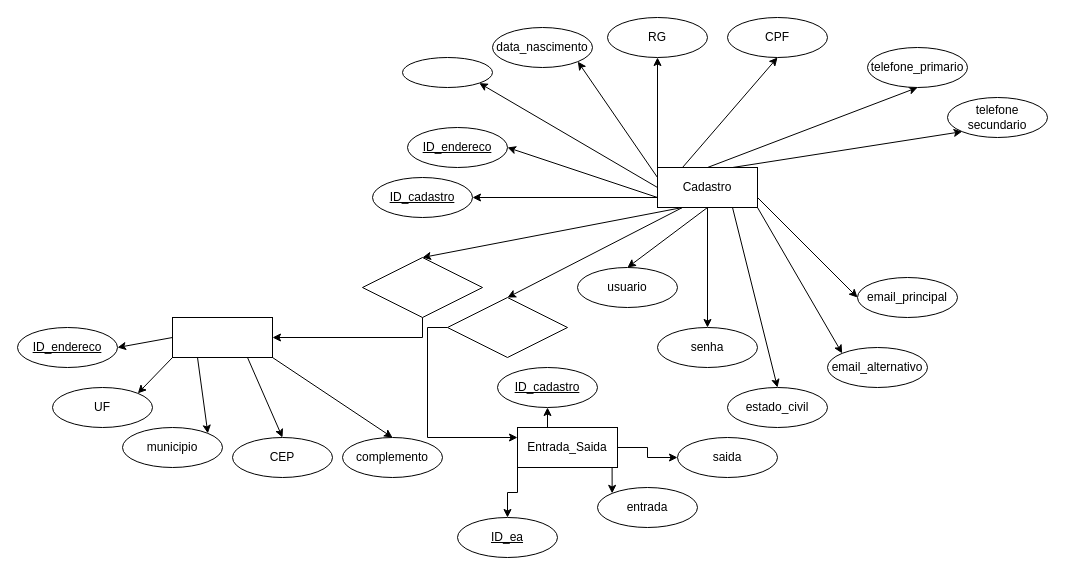
Image size: 1065x575. Some labels were removed from this diagram. The shapes that lost their labels are listed below. From the top down, each one's box as (x1, y1, x2, y2) in pixels, then its label:
(402, 56, 492, 88): nome
(362, 256, 482, 318): Contém
(172, 316, 272, 358): Endereco
(446, 296, 568, 358): acontece
